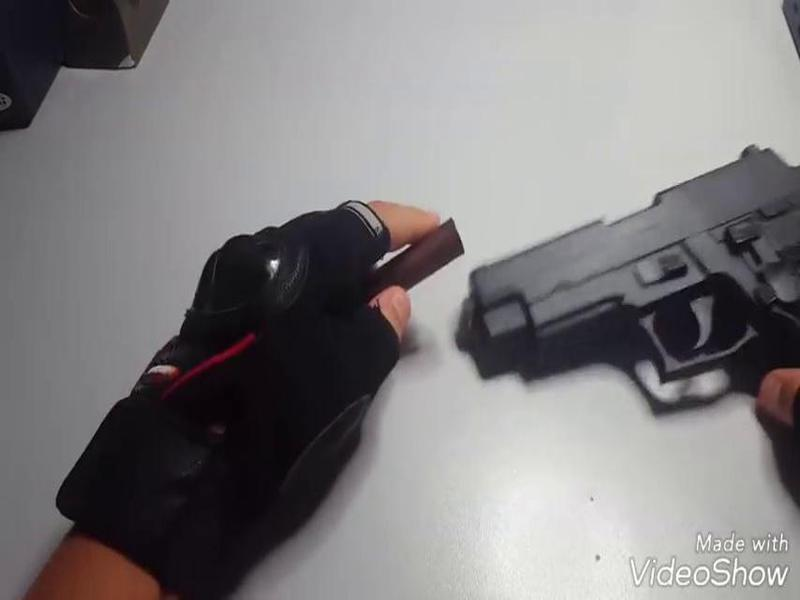Pistola: (456, 134, 800, 404)
